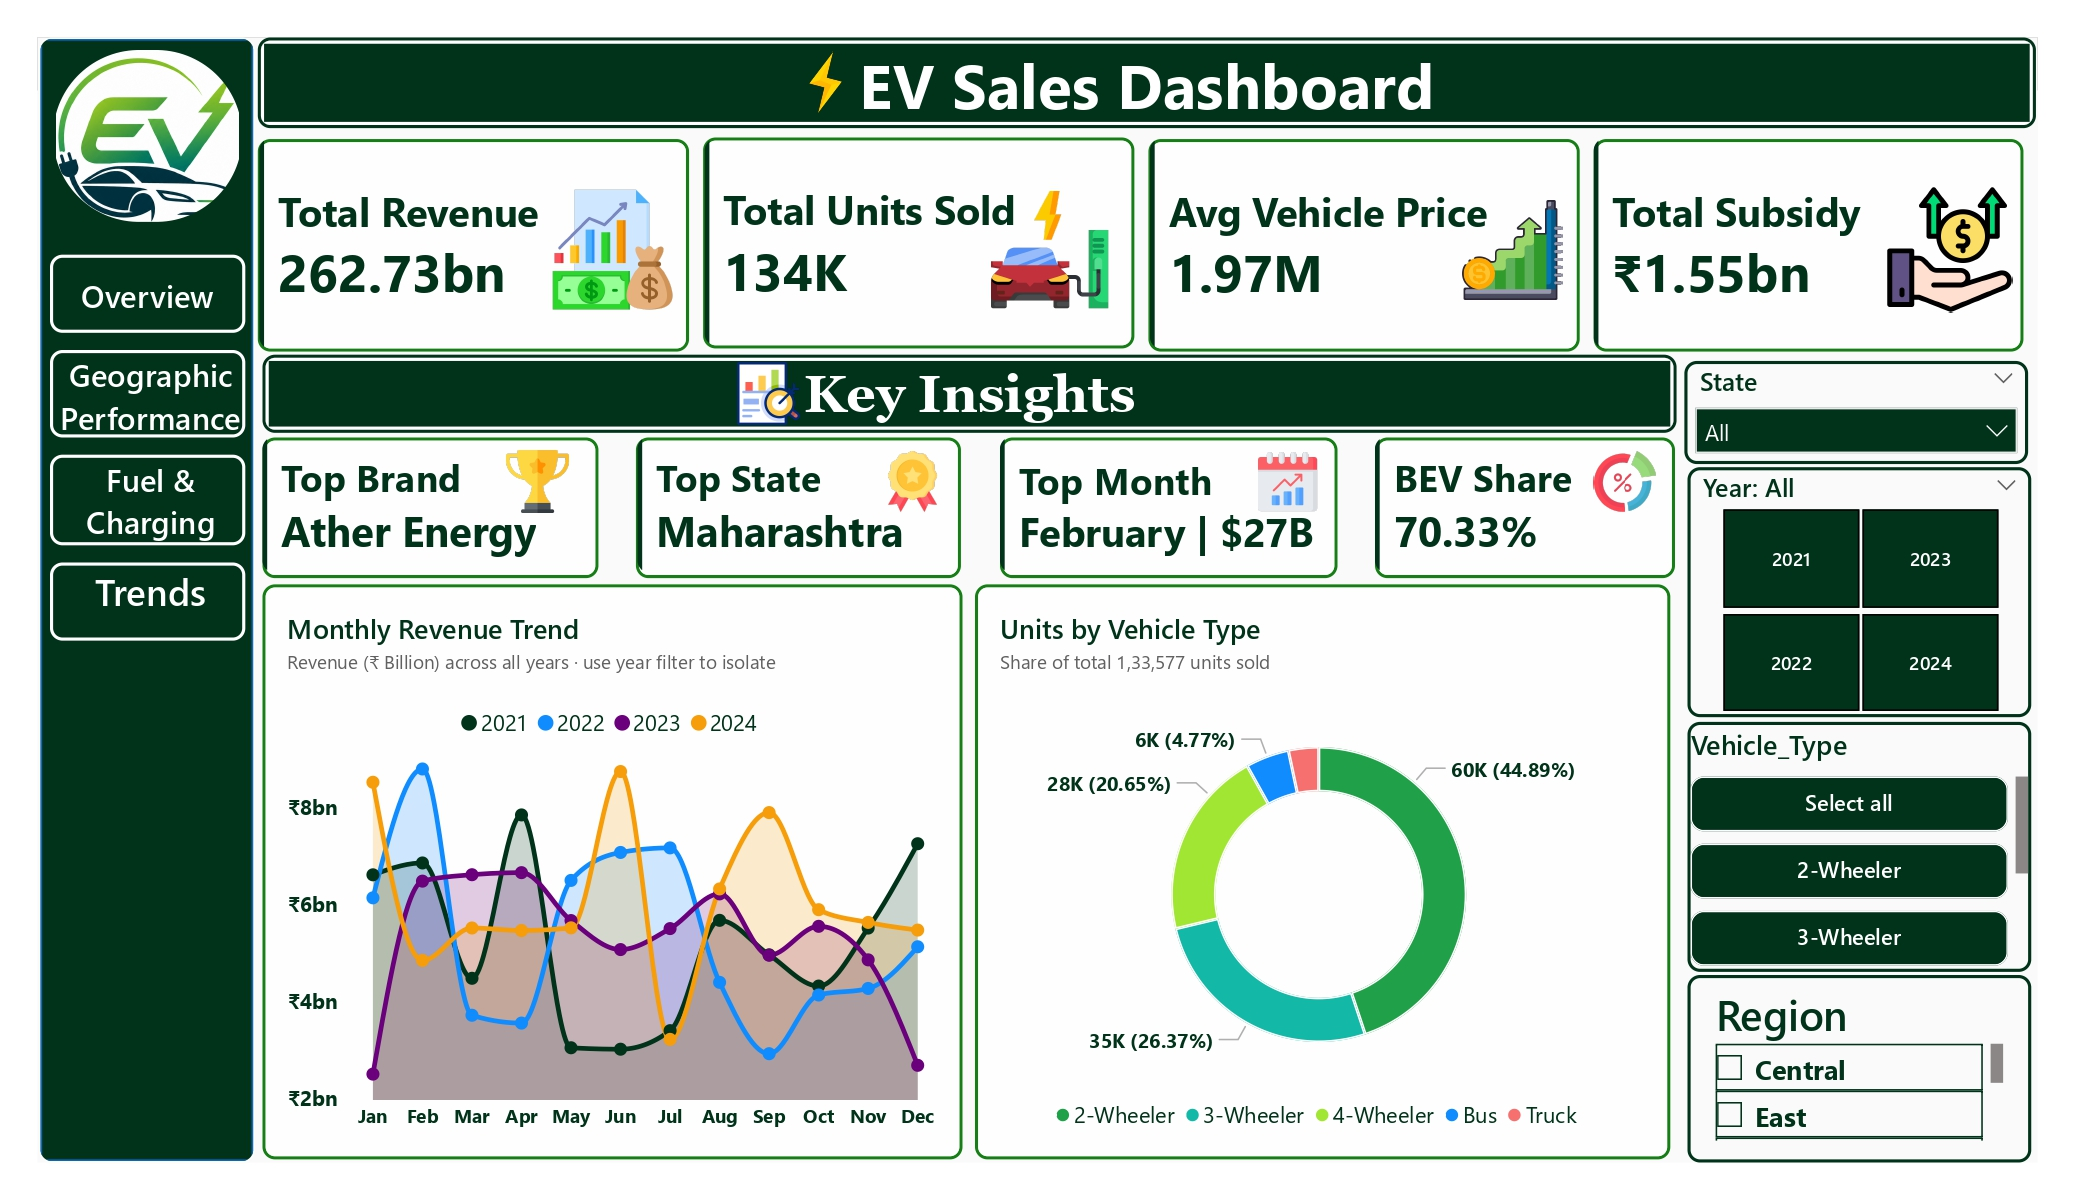

What the dashboard file says about the page in this screenshot:
{"tool":"powerbi","page":{"name":"Overview","canvas":[1280,720],"ordinal":0},"visuals":[{"type":"group","id":"g1","title":"Group 3","box":[141.4,64,1130.1,136.5],"z":0},{"type":"shape","box":[1,0,138,720],"z":1000},{"type":"shape","box":[141,0,1138.3,58.3],"z":2000},{"type":"shape","box":[995.9,64.7,275.6,135.6],"z":2000,"group":"g2"},{"type":"shape","box":[141.4,64.8,276,135.7],"z":3000,"group":"g2"},{"type":"shape","box":[144,256,215,90],"z":3000,"group":"g3"},{"type":"shape","box":[600,350,445,368],"z":3000},{"type":"shape","box":[426,64,276,135],"z":4000,"group":"g1"},{"type":"shape","box":[711.1,64.8,276,135.7],"z":4000,"group":"g2"},{"type":"shape","box":[144,350,448,368],"z":4000},{"type":"slicer","fields":{"Values":["DateTable.Date.Variation.Date Hierarchy.Year"]},"box":[1056,275,220,160],"z":5000},{"type":"advancedSlicerVisual","fields":{"Values":["Sheet1.Vehicle_Type"]},"box":[1056,438,220,160],"z":6000},{"type":"slicer","fields":{"Values":["Sheet1.State"]},"box":[1054.3,207.1,220,65.7],"z":7000},{"type":"listSlicer","fields":{"Values":["Sheet1.Region"]},"box":[1056,600,220,120],"z":8000},{"type":"group","id":"g2","title":"Group 1","box":[141.4,64.7,1130.1,135.8],"z":9000,"group":"g1"},{"type":"group","id":"g3","title":"Group 2","box":[144,256,904,90],"z":9000},{"type":"cardVisual","fields":{"Data":["EV_Sales.Total Revenue"]},"box":[142,64,272,136],"z":10000,"group":"g4"},{"type":"image","box":[912,96,64,80],"z":10000},{"type":"shape","box":[383.3,256,208,90],"z":10000,"group":"g3"},{"type":"cardVisual","fields":{"Data":["EV_Sales.Total Units Sold"]},"box":[427,64,272,134],"z":11000,"group":"g4"},{"type":"cardVisual","fields":{"Data":["EV_Sales.Top Brand"]},"box":[144,255,216,88],"z":11000},{"type":"shape","box":[615.7,256,216,90],"z":11000,"group":"g3"},{"type":"group","id":"g4","title":"Group 4","box":[142,64,1126,136],"z":12000},{"type":"cardVisual","fields":{"Data":["EV_Sales.Avg Vehicle Price"]},"box":[712,64,272,136],"z":12000,"group":"g4"},{"type":"shape","box":[856,256,192,90],"z":12000,"group":"g3"},{"type":"cardVisual","fields":{"Data":["EV_Sales.Total Subsidy"]},"box":[996,64,272,136],"z":13000,"group":"g4"},{"type":"lineChart","title":"Monthly Revenue Trend","fields":{"Category":["DateTable.Month"],"Series":["DateTable.Year"],"Y":["EV_Sales.Total Revenue"]},"box":[144,352,448,368],"z":13000},{"type":"image","box":[320,96,96,80],"z":14000,"group":"g4"},{"type":"donutChart","title":"Units by Vehicle Type","fields":{"Category":["EV_Sales.Vehicle_Type"],"Y":["EV_Sales.Total Units Sold"]},"box":[600,352,440,368],"z":14000},{"type":"image","box":[608,96,80,80],"z":15000,"group":"g4"},{"type":"cardVisual","fields":{"Data":["EV_Sales.Top State"]},"box":[384,255,208,88],"z":15000},{"type":"image","box":[1184,96,80,80],"z":16000,"group":"g4"},{"type":"cardVisual","fields":{"Data":["EV_Sales.Peak Month"]},"box":[616,255,216,88],"z":16000},{"type":"cardVisual","fields":{"Data":["EV_Sales.BEV Share %"]},"box":[856,255,192,88],"z":17000},{"type":"image","box":[912,96,64,80],"z":17001,"group":"g4"},{"type":"image","box":[10,8,121,110],"z":18000},{"type":"actionButton","box":[8,139,125,50],"z":19000},{"type":"actionButton","title":"Geographic Performance","box":[8,200,125,56],"z":20000},{"type":"actionButton","title":"Fuel & Charging","box":[8,267,125,58],"z":21000},{"type":"actionButton","title":"Trends","box":[8,336,125,50],"z":22000},{"type":"image","box":[296,264,48,40],"z":23000},{"type":"image","box":[536,264,48,40],"z":24000},{"type":"image","box":[776,264,48,40],"z":25000},{"type":"image","box":[992,264,48,40],"z":26000},{"type":"image","box":[485,8,39,40],"z":27000},{"type":"shape","box":[144,203,905,50],"z":28000},{"type":"image","box":[448,208,40,40],"z":29000}]}

Visuals, with their boxes on the page's 1280x720 design canvas (x1, y1, x2, y2). These are canvas units, not pixel positions in the 2075x1200 screenshot, which may show the page scaled, cropped or inside an application window:
"Group 3" group: [141, 64, 1272, 200]
shape: [1, 0, 139, 720]
shape: [141, 0, 1279, 58]
shape: [996, 65, 1272, 200]
shape: [141, 65, 417, 200]
shape: [144, 256, 359, 346]
shape: [600, 350, 1045, 718]
shape: [426, 64, 702, 199]
shape: [711, 65, 987, 200]
shape: [144, 350, 592, 718]
slicer - DateTable.Date.Variation.Date Hierarchy.Year: [1056, 275, 1276, 435]
advancedSlicerVisual - Sheet1.Vehicle_Type: [1056, 438, 1276, 598]
slicer - Sheet1.State: [1054, 207, 1274, 273]
listSlicer - Sheet1.Region: [1056, 600, 1276, 720]
"Group 1" group: [141, 65, 1272, 200]
"Group 2" group: [144, 256, 1048, 346]
cardVisual - EV_Sales.Total Revenue: [142, 64, 414, 200]
image: [912, 96, 976, 176]
shape: [383, 256, 591, 346]
cardVisual - EV_Sales.Total Units Sold: [427, 64, 699, 198]
cardVisual - EV_Sales.Top Brand: [144, 255, 360, 343]
shape: [616, 256, 832, 346]
"Group 4" group: [142, 64, 1268, 200]
cardVisual - EV_Sales.Avg Vehicle Price: [712, 64, 984, 200]
shape: [856, 256, 1048, 346]
cardVisual - EV_Sales.Total Subsidy: [996, 64, 1268, 200]
"Monthly Revenue Trend" lineChart: [144, 352, 592, 720]
image: [320, 96, 416, 176]
"Units by Vehicle Type" donutChart: [600, 352, 1040, 720]
image: [608, 96, 688, 176]
cardVisual - EV_Sales.Top State: [384, 255, 592, 343]
image: [1184, 96, 1264, 176]
cardVisual - EV_Sales.Peak Month: [616, 255, 832, 343]
cardVisual - EV_Sales.BEV Share %: [856, 255, 1048, 343]
image: [912, 96, 976, 176]
image: [10, 8, 131, 118]
actionButton: [8, 139, 133, 189]
"Geographic Performance" actionButton: [8, 200, 133, 256]
"Fuel & Charging" actionButton: [8, 267, 133, 325]
"Trends" actionButton: [8, 336, 133, 386]
image: [296, 264, 344, 304]
image: [536, 264, 584, 304]
image: [776, 264, 824, 304]
image: [992, 264, 1040, 304]
image: [485, 8, 524, 48]
shape: [144, 203, 1049, 253]
image: [448, 208, 488, 248]
